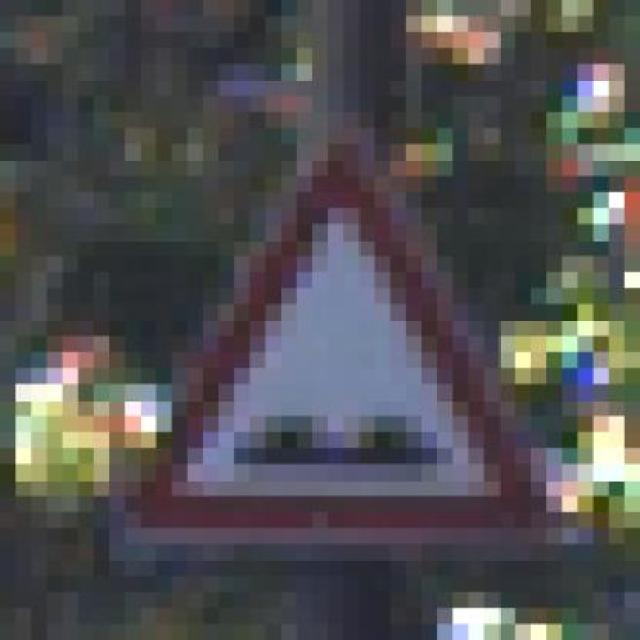Uneven Road: (114, 128, 566, 560)
